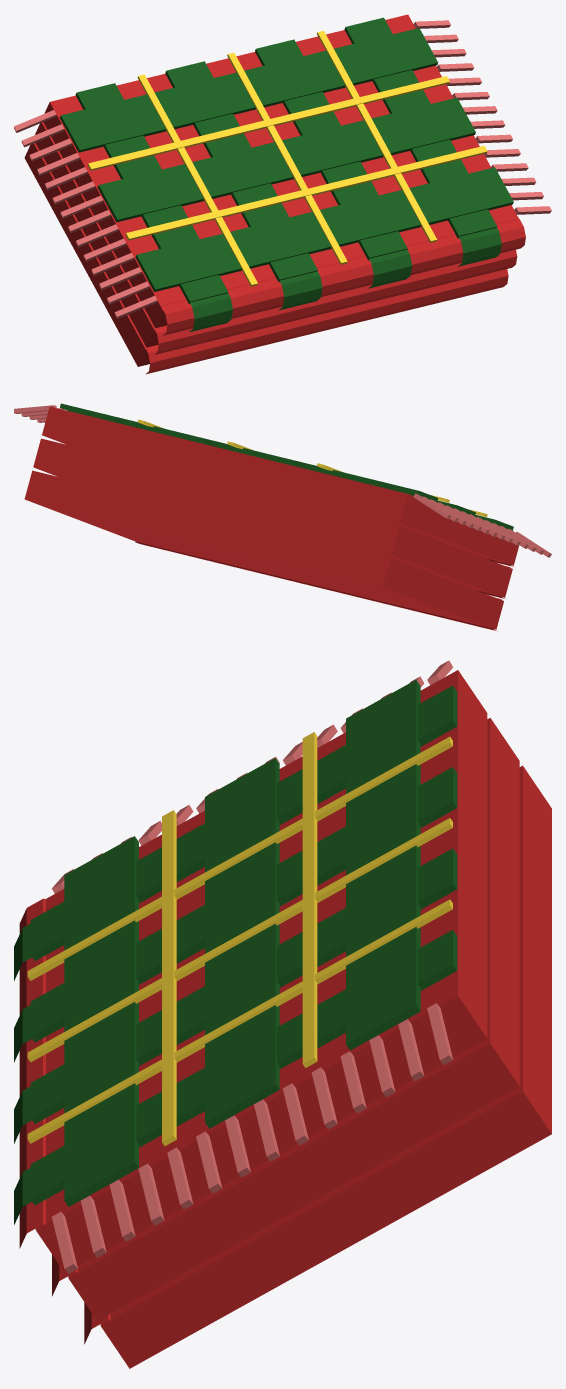
The model's file is f-filt-vikt-cc0.glb.
The picture shows the model from 3 angles, top to bottom: view 1: azimuth 30°, elevation 25°; view 2: azimuth 150°, elevation 25°; view 3: azimuth 270°, elevation 25°; orthographic projection. The views are drawn at different scales.
Parts seen in each view (by area): view 1: filt; view 2: filt; view 3: filt.
Boxes of the visible parts, x1,y1,x2,y2 form: filt: [14, 14, 551, 374]; filt: [14, 403, 551, 630]; filt: [14, 660, 551, 1368].
Size of the model in its own units: 0.6791 by 0.3136 by 0.391.
